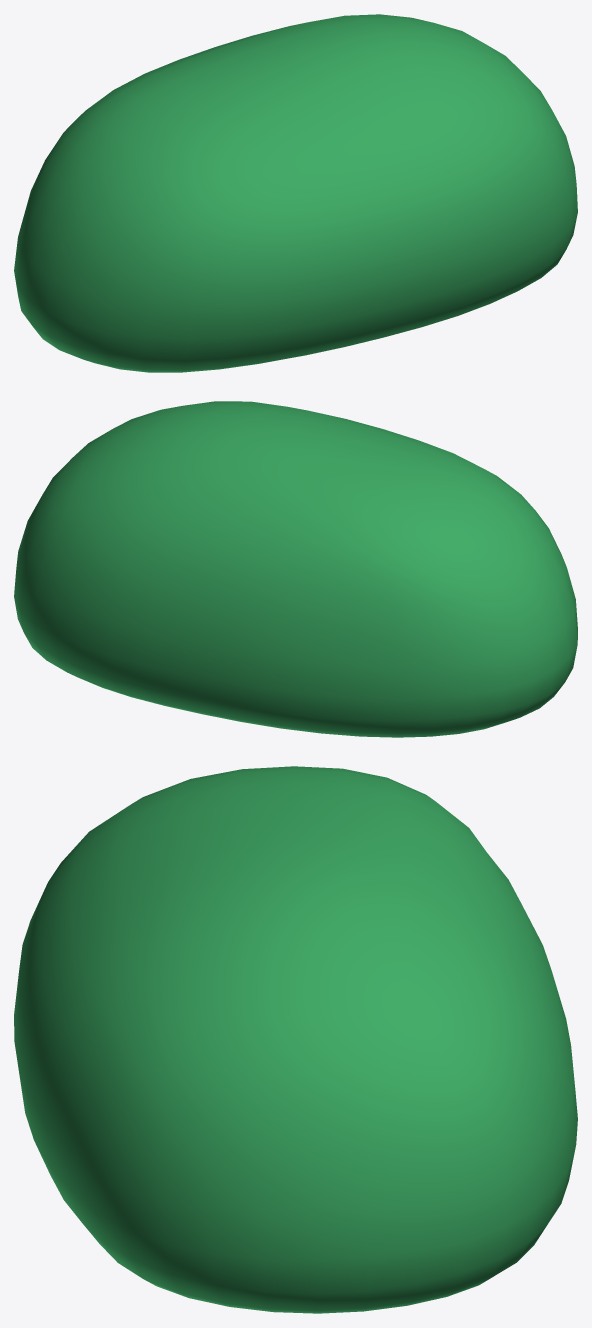
The model's file is Bush_D_03.fbx.
3 views of the same model, one above another, from view 1: azimuth 30°, elevation 25°; view 2: azimuth 150°, elevation 25°; view 3: azimuth 270°, elevation 25° (orthographic). The views are drawn at different scales.
Visible parts, largest first — view 1: Bush_D_03_LOD0; view 2: Bush_D_03_LOD0; view 3: Bush_D_03_LOD0.
Part boxes in pixels (left/top/right/bottom): Bush_D_03_LOD0: left=14, top=14, right=577, bottom=372; Bush_D_03_LOD0: left=14, top=401, right=577, bottom=737; Bush_D_03_LOD0: left=14, top=766, right=577, bottom=1313.
Size of what is drawn, in the model's own units: 672 by 301 by 446.
